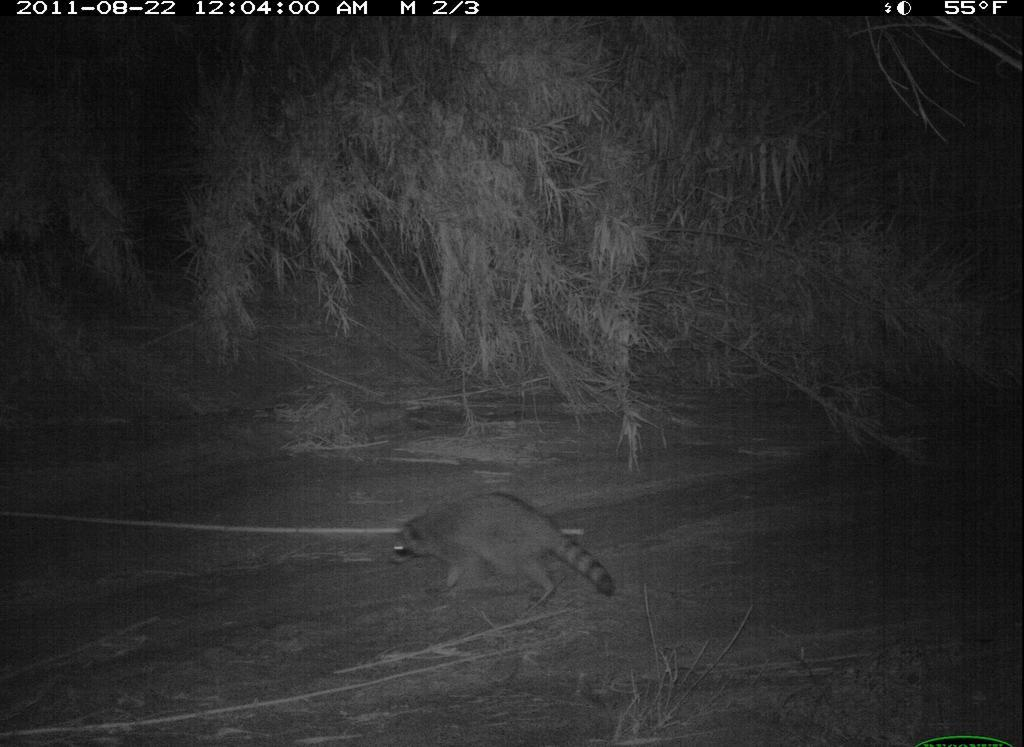raccoon: (388, 489, 617, 616)
